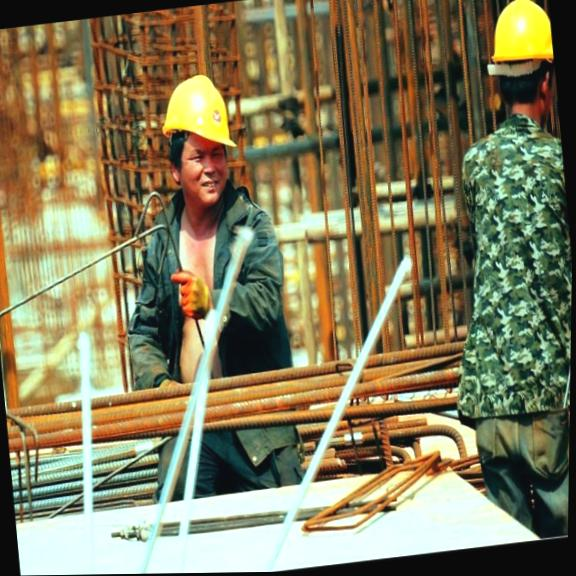no_safety_vest: (118, 175, 308, 374), (463, 115, 574, 325)
